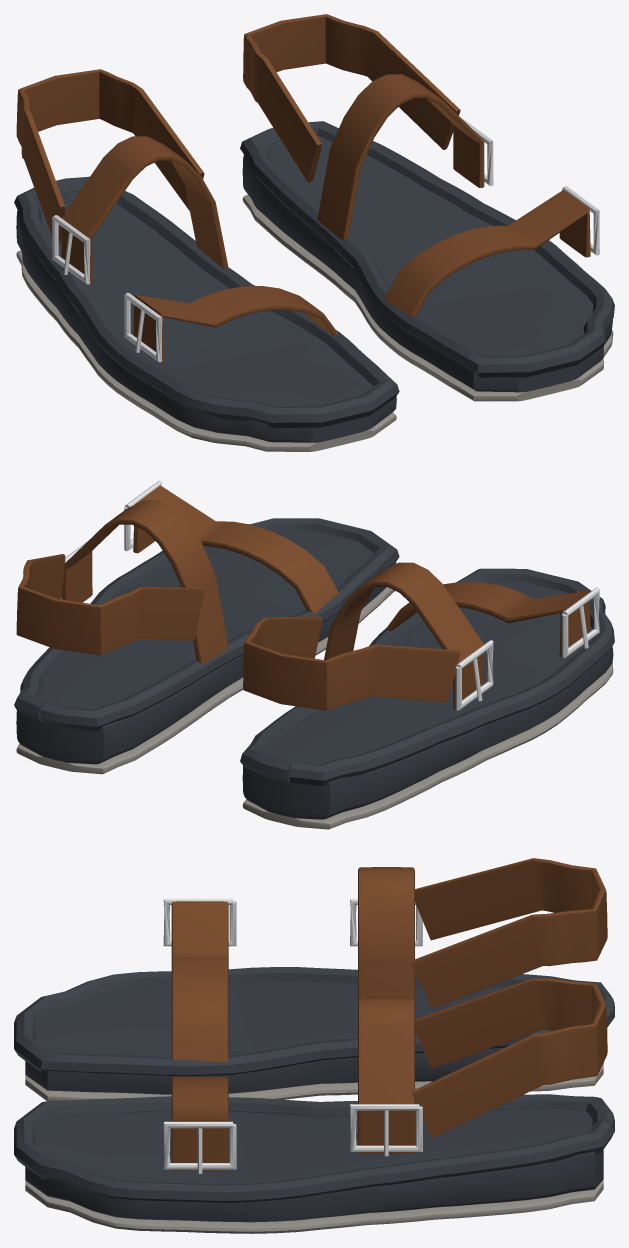
File: sandal_leather_vn.glb
3 views of the same model, one above another, from view 1: azimuth 30°, elevation 25°; view 2: azimuth 150°, elevation 25°; view 3: azimuth 270°, elevation 25° (orthographic). The views are drawn at different scales.
Parts seen in each view (by area): view 1: sandal_leather_vn; view 2: sandal_leather_vn; view 3: sandal_leather_vn.
Boxes of the visible parts, bbox=[...] form: sandal_leather_vn: bbox=[14, 14, 614, 451]; sandal_leather_vn: bbox=[14, 480, 614, 829]; sandal_leather_vn: bbox=[14, 858, 614, 1233].
Bounding box in the file's own units: 0.2394 × 0.0905 × 0.2636.
